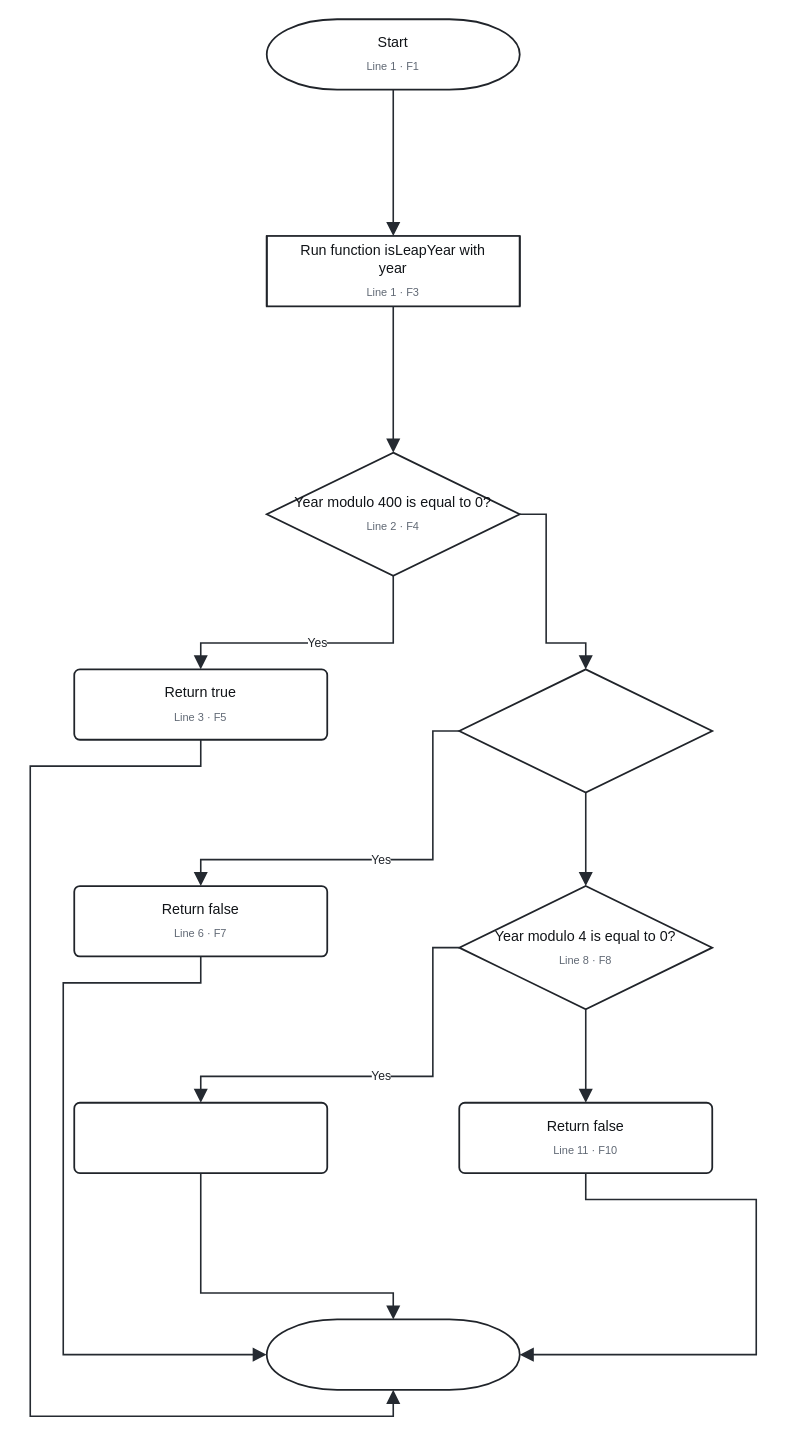
The diagram is 789 pixels wide and 1449 high, and some of its shapes have lost their labels. Each missing label, with the centre of its shape:
End Line 1 · F2: point 392,1354
Return true Line 9 · F9: point 200,1137
Year modulo 100 is equal to 0? Line 5 · F6: point 585,730
